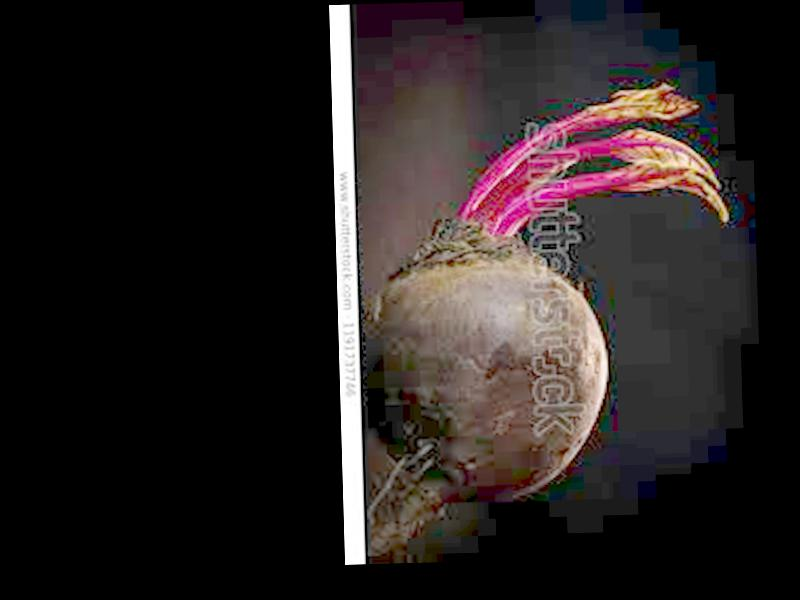Beet: (353, 84, 737, 564)
